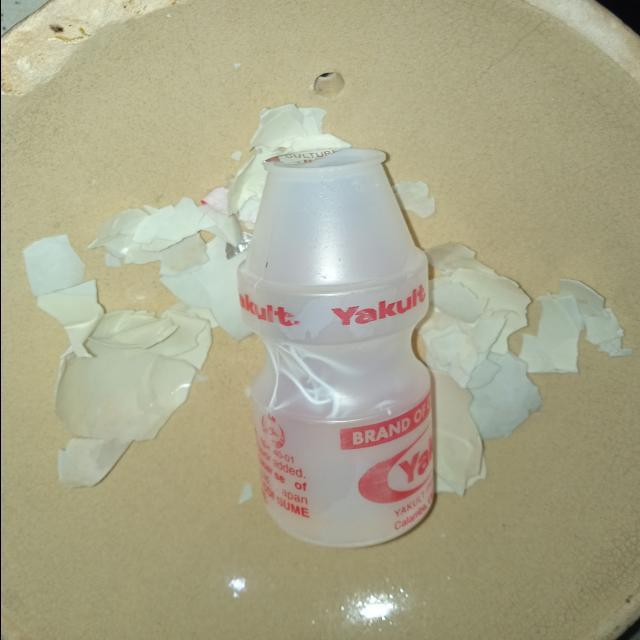egg shell: (34, 333, 202, 468), (509, 272, 636, 388), (427, 242, 531, 356), (433, 363, 487, 502), (469, 351, 544, 444), (130, 196, 213, 258), (86, 201, 156, 270), (20, 232, 84, 298), (240, 102, 329, 148), (428, 274, 488, 324), (391, 179, 436, 220)
